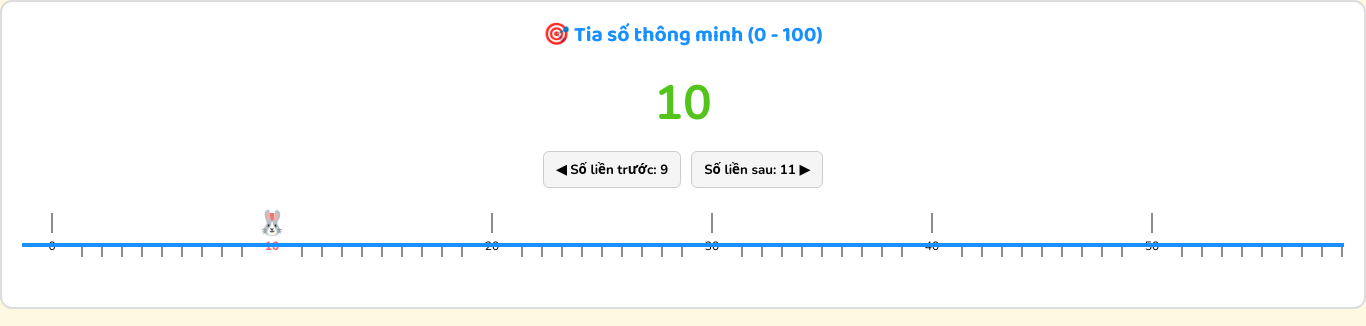
Test: NumberLine visualizer › updates selection on click and controls
Step 1. Click the button with test id "btn-next" → (757, 170), box [691,152,823,188]
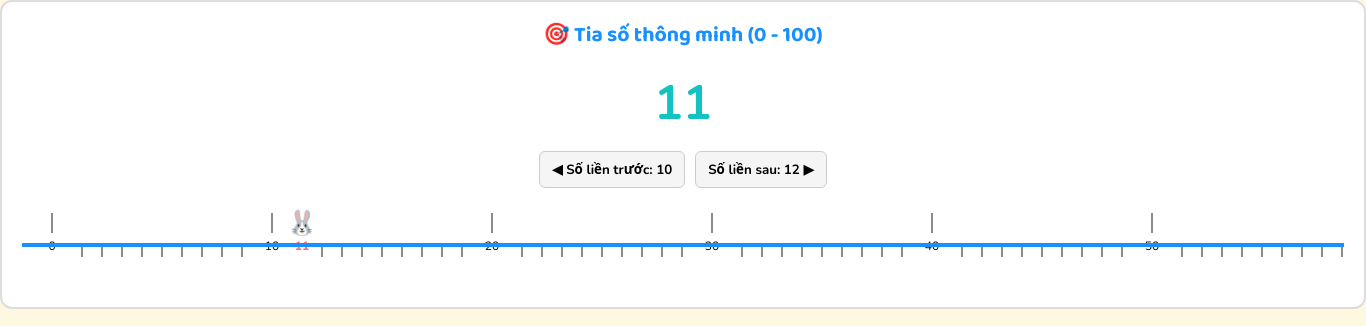
Check: the text with test id "selected-number" reads "11", box [654,70,712,136]
Step 2. Click the button with test id "btn-prev" → (612, 170), box [539,152,685,188]
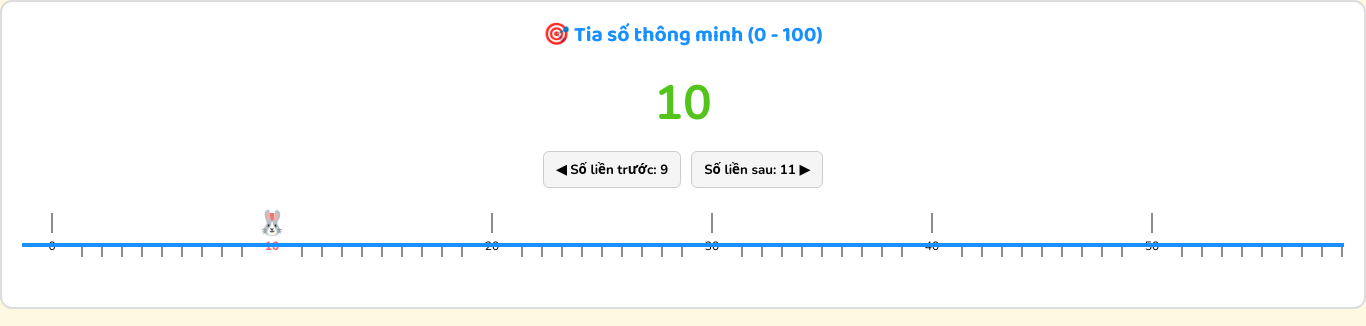
Check: the text with test id "selected-number" reads "10", box [654,70,712,136]
